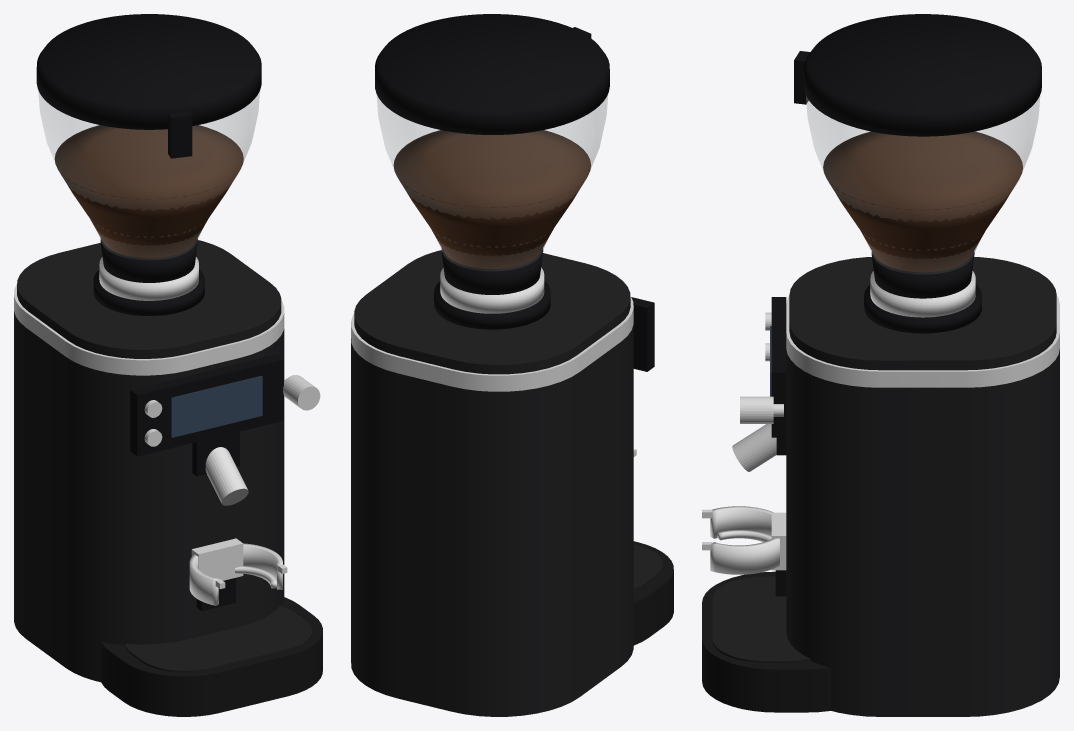
Rendered from grinder.glb.
3 renders of one model, left to right at view 1: azimuth 30°, elevation 25°; view 2: azimuth 150°, elevation 25°; view 3: azimuth 270°, elevation 25°, orthographic. The views are drawn at different scales.
Parts seen in each view (by area): view 1: Body, HopperLid, Beans, TopCap, HopperBowl, DripTray, Panel, DripTrayInset, TopRing, Screen, HopperNeck, HopperCollar (+8 smaller); view 2: Body, HopperLid, Beans, TopCap, HopperBowl, TopRing, HopperNeck, DripTray, HopperCollar, HopperGate, Panel, DripTrayInset; view 3: Body, HopperLid, Beans, TopCap, HopperBowl, DripTray, DripTrayInset, TopRing, CradleRing, HopperNeck, HopperCollar, HopperGate (+5 smaller).
Part boxes in pixels (x1,y1,x2,y2): Body: (14, 311, 284, 682); HopperLid: (36, 14, 261, 129); Beans: (54, 125, 243, 258); TopCap: (17, 240, 281, 358); HopperBowl: (38, 91, 259, 259); DripTray: (101, 597, 322, 716); Panel: (130, 354, 283, 456); DripTrayInset: (125, 606, 312, 672); TopRing: (14, 284, 284, 375); Screen: (171, 375, 262, 437); HopperNeck: (100, 238, 197, 282); HopperCollar: (93, 270, 204, 315); Body: (351, 324, 633, 716); HopperLid: (375, 14, 609, 134); Beans: (393, 130, 590, 268); TopCap: (354, 250, 630, 374); HopperBowl: (377, 95, 607, 270); TopRing: (351, 295, 633, 391); HopperNeck: (441, 248, 543, 294); DripTray: (633, 541, 673, 645); HopperCollar: (434, 281, 550, 329); HopperGate: (440, 267, 544, 313); Panel: (631, 297, 654, 371); DripTrayInset: (633, 544, 662, 590); Body: (786, 349, 1059, 716); HopperLid: (804, 14, 1041, 136); Beans: (823, 131, 1022, 272); TopCap: (789, 257, 1056, 370); HopperBowl: (806, 96, 1039, 273); DripTray: (702, 571, 830, 712); DripTrayInset: (712, 576, 810, 662); TopRing: (786, 295, 1059, 387); CradleRing: (710, 506, 779, 574); HopperNeck: (871, 251, 974, 298); HopperCollar: (864, 284, 981, 333); HopperGate: (870, 271, 975, 317).
Size of the model in its own units: 0.24 by 0.63 by 0.34.
